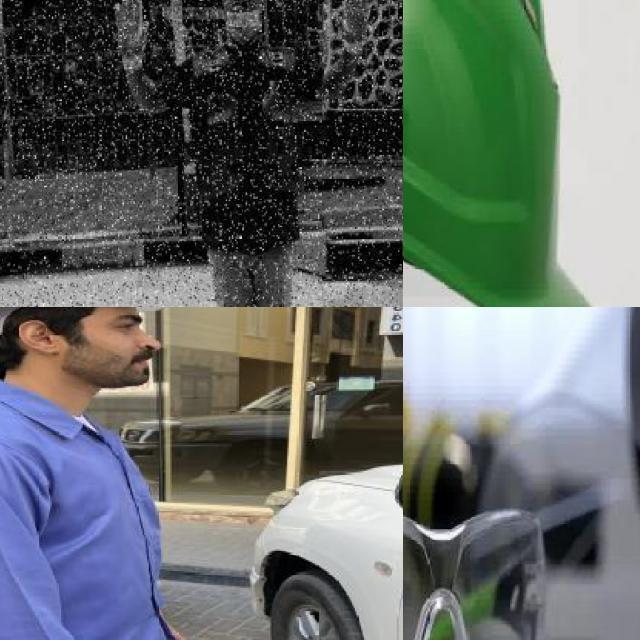apron: (114, 0, 149, 73), (331, 0, 368, 58)
